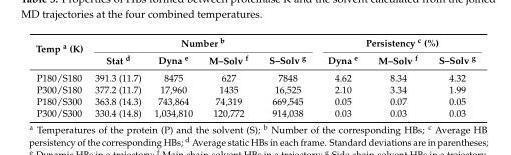table: (35, 35, 474, 118)
table column: (367, 35, 427, 118), (88, 35, 147, 118), (257, 35, 316, 118), (199, 35, 257, 118), (35, 35, 88, 118), (147, 35, 199, 118), (316, 35, 367, 118), (427, 35, 474, 118)
table column header: (35, 35, 474, 68)
table row: (35, 50, 474, 68), (35, 35, 474, 50), (35, 68, 474, 83), (35, 94, 474, 106), (35, 106, 474, 118), (35, 83, 474, 94)
table spanning cell: (88, 35, 316, 50), (316, 35, 474, 50), (35, 35, 88, 68)
